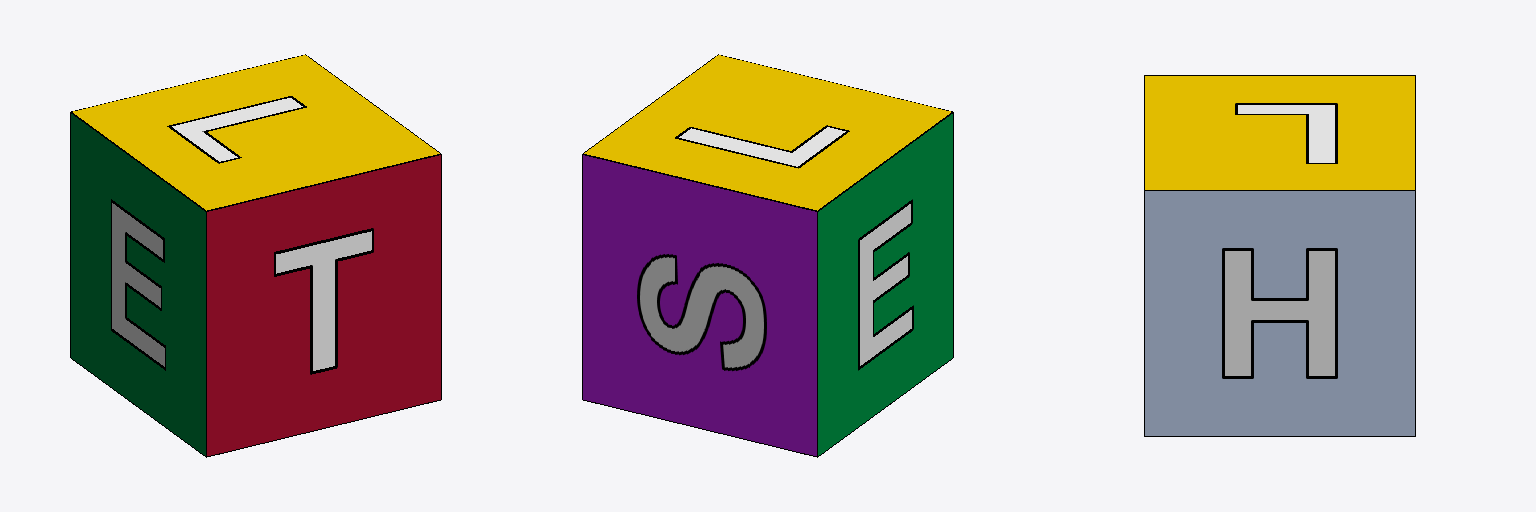
The picture shows the model from 3 angles: view 1: azimuth 30°, elevation 25°; view 2: azimuth 150°, elevation 25°; view 3: azimuth 270°, elevation 25°; orthographic projection.
Bounding box in the file's own units: 0.065 × 0.065 × 0.065.
Materials: 6 (6 with a texture image).